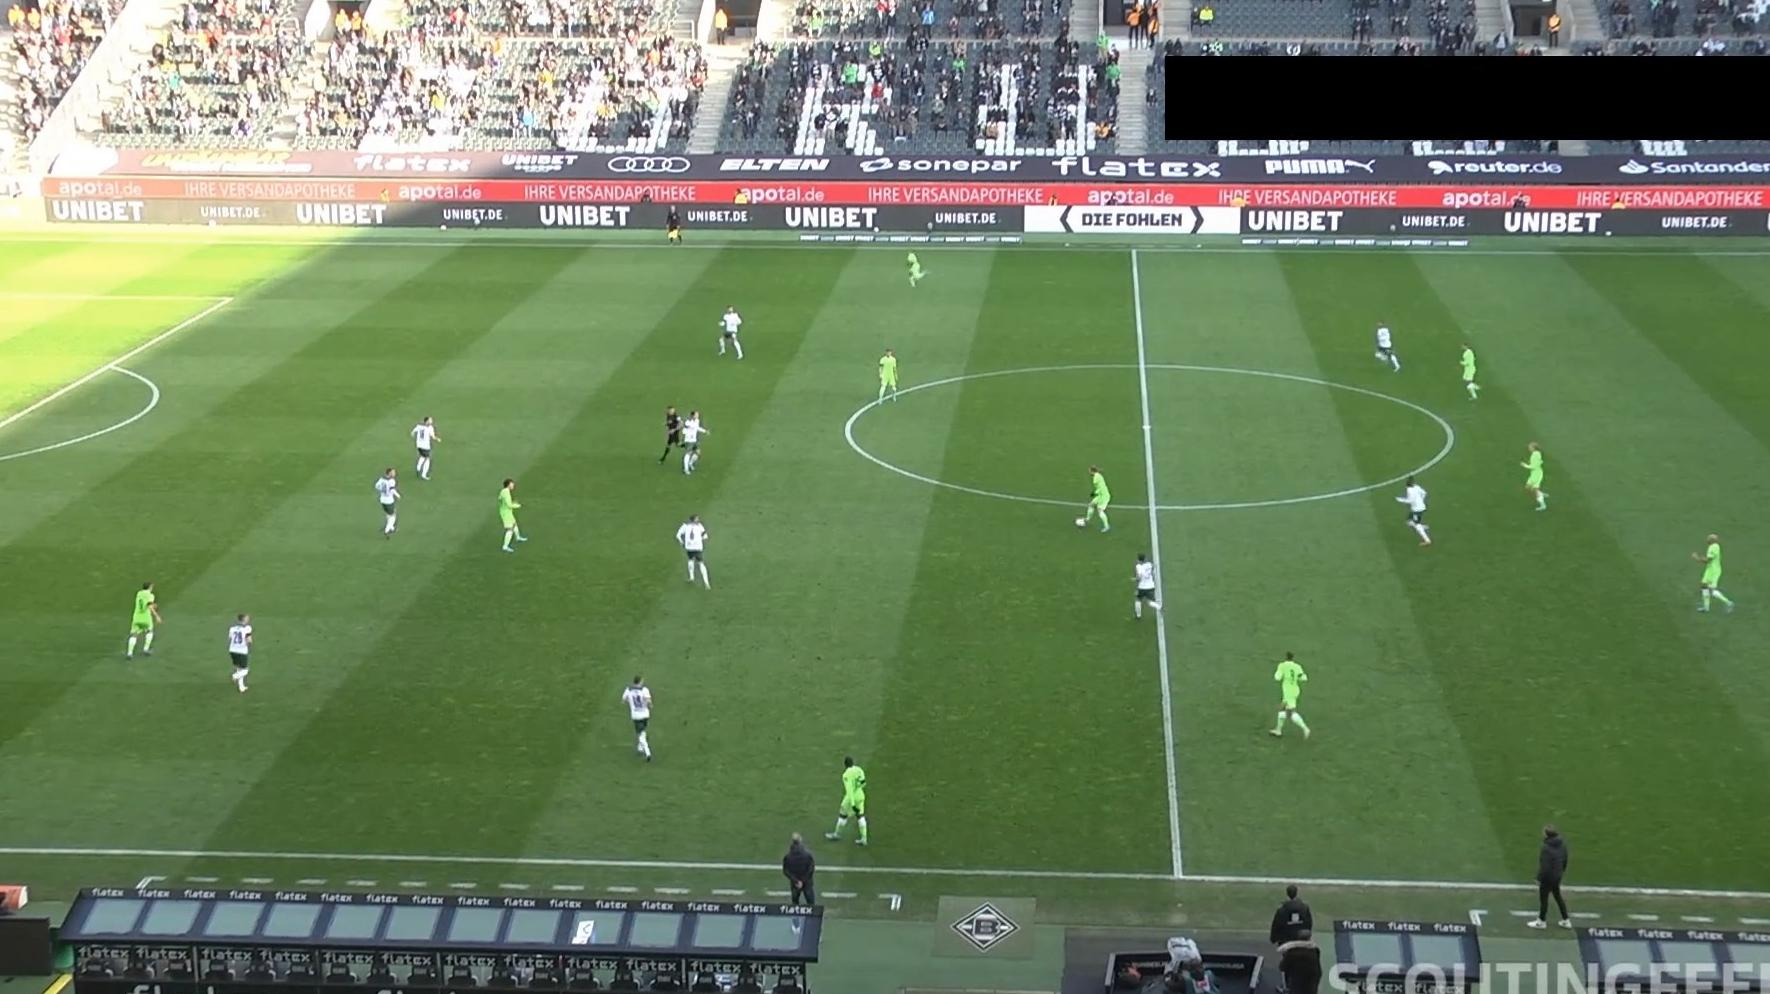ball: (1075, 515, 1087, 527)
